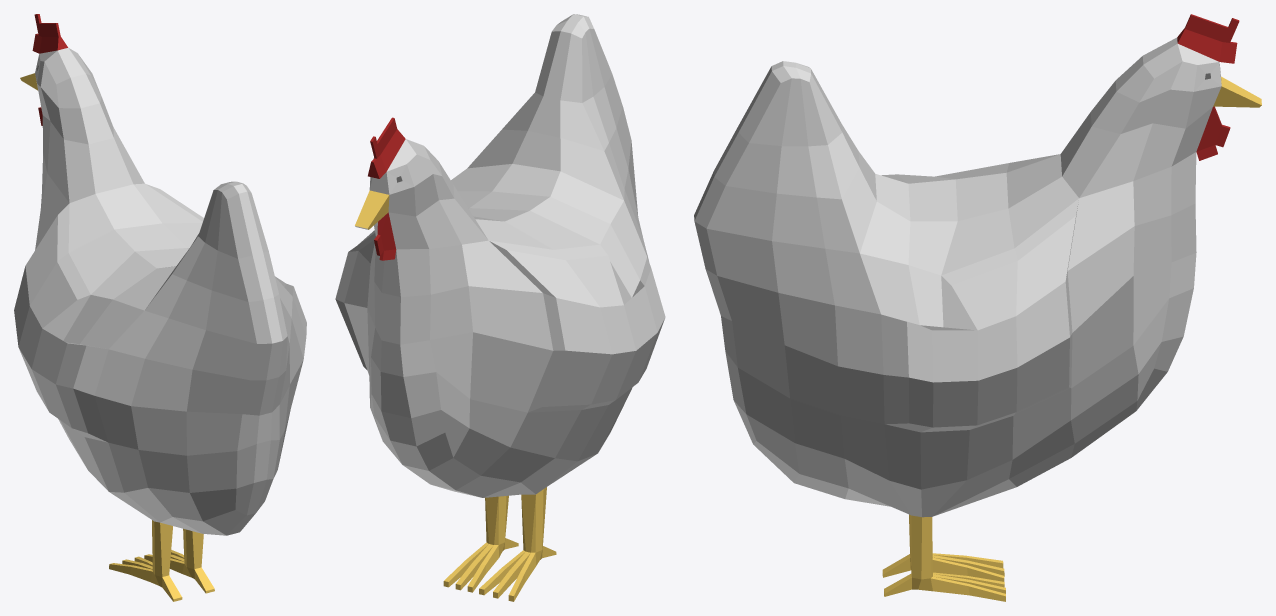
Rendered from davuk2.fbx.
3 views of the same model, side by side, from view 1: azimuth 30°, elevation 25°; view 2: azimuth 150°, elevation 25°; view 3: azimuth 270°, elevation 25° (orthographic). The views are drawn at different scales.
Parts seen in each view (by area): view 1: Chicken; view 2: Chicken; view 3: Chicken.
Boxes of the visible parts, x1,y1,x2,y2 form: Chicken: (14,14,306,601); Chicken: (335,14,665,601); Chicken: (694,14,1261,601).
Bounding box in the file's own units: 22.48 × 41.03 × 37.18.
